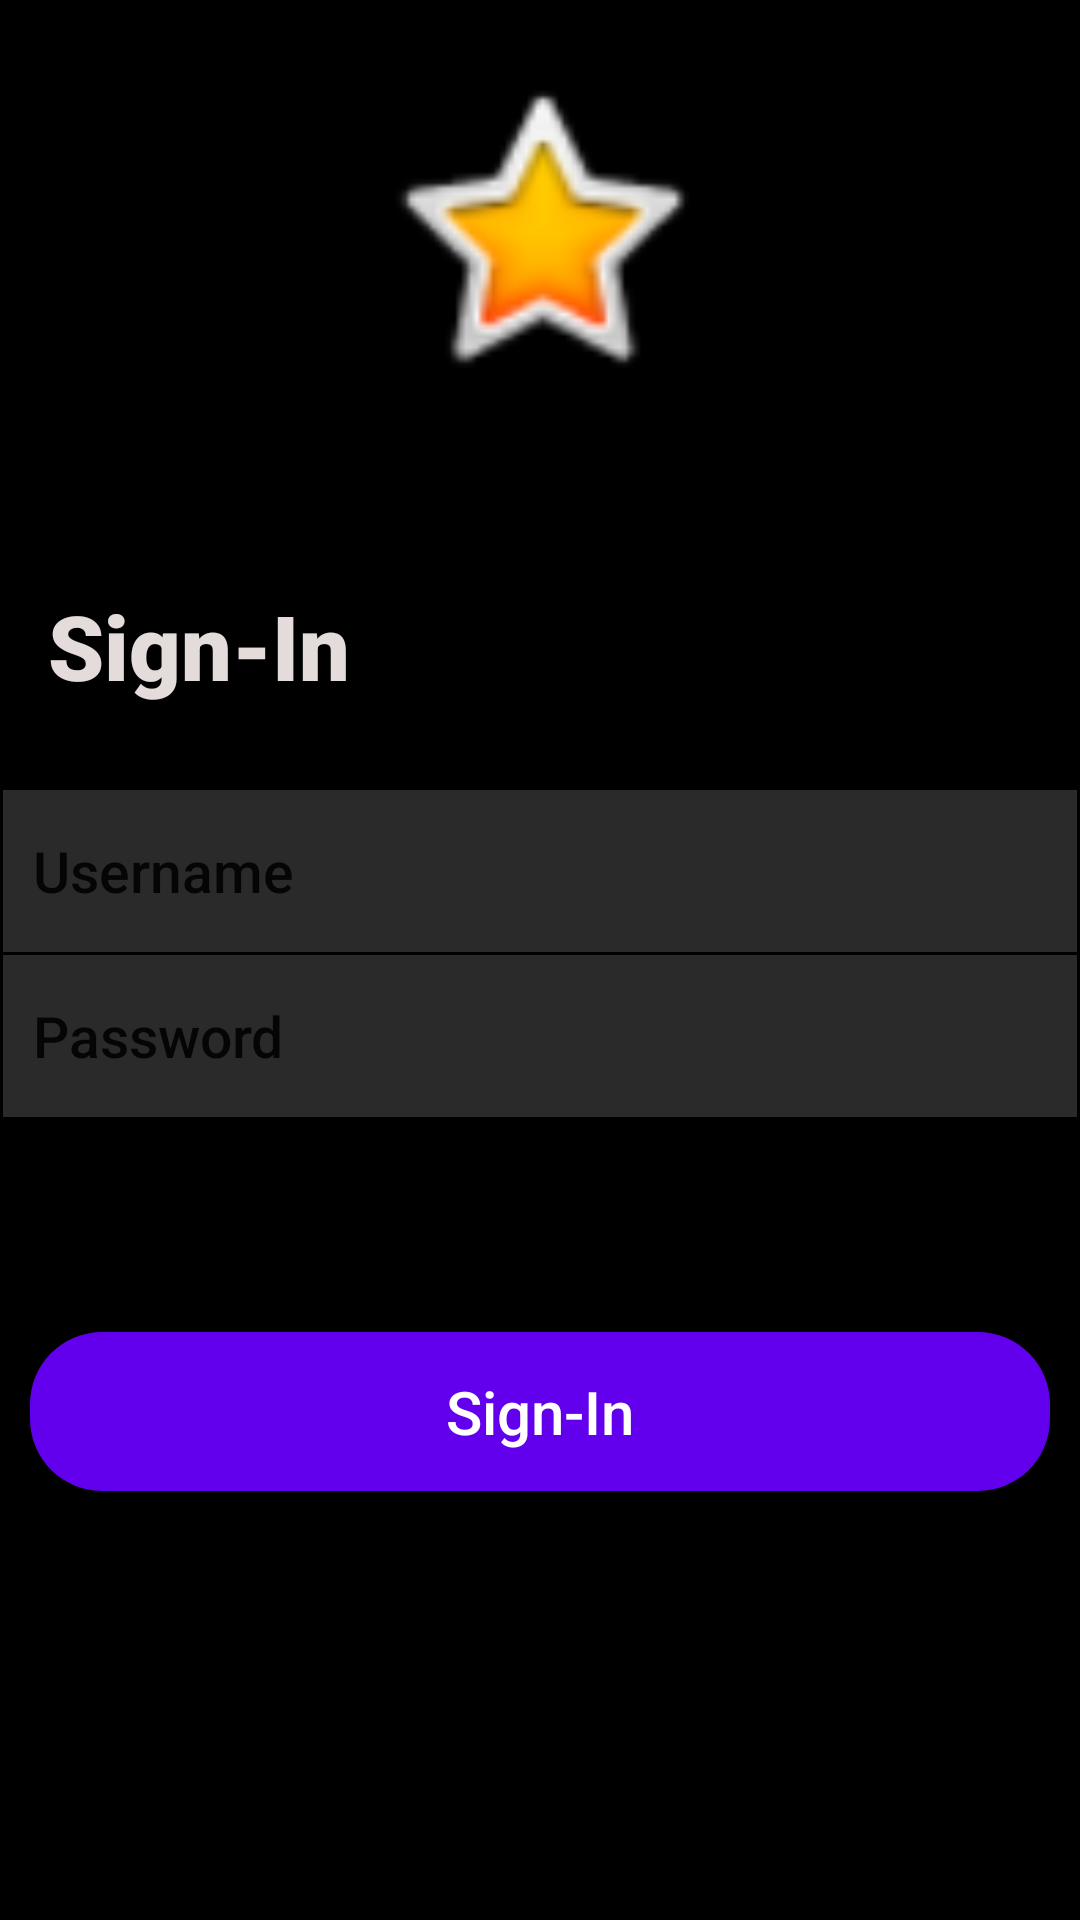

Icons on this 1080x1920 Android screen, each with the point to tap as point (x, y):
star on: point (543, 228)
